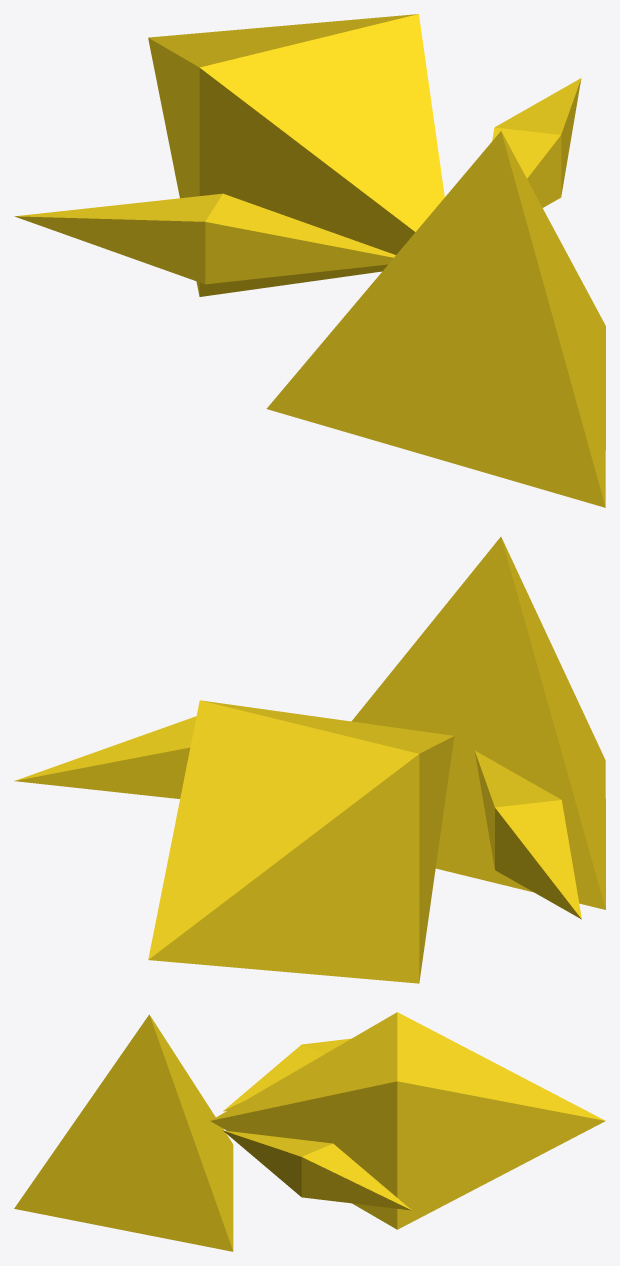
File: tinker.obj
3 views of the same model, one above another, from view 1: azimuth 30°, elevation 25°; view 2: azimuth 150°, elevation 25°; view 3: azimuth 270°, elevation 25° (orthographic). The views are drawn at different scales.
Visible parts, largest first — view 1: obj_0; view 2: obj_0; view 3: obj_0.
Part boxes in pixels (x1,y1,x2,y2): obj_0: (14, 14, 605, 507); obj_0: (14, 537, 605, 983); obj_0: (14, 1012, 605, 1251).
Bounding box in the file's own units: 28.46 × 14.41 × 39.73.
